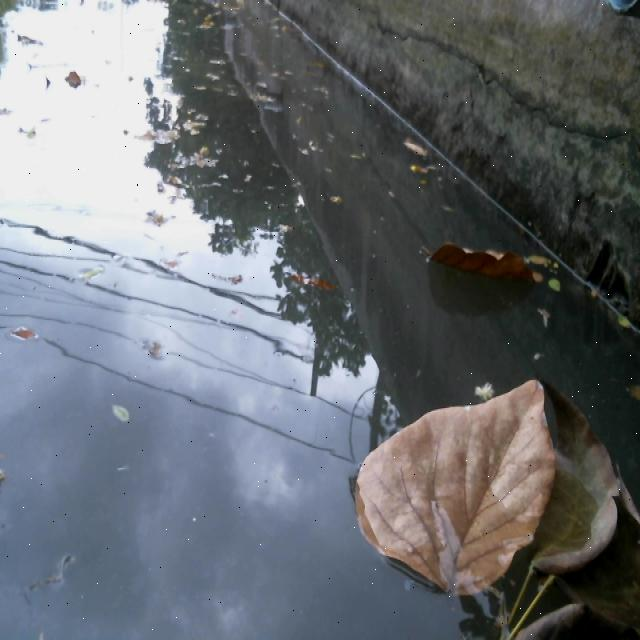Big-leaf: (349, 361, 640, 640), (424, 231, 543, 285)
Small-leaf: (395, 127, 441, 184), (544, 261, 566, 336), (284, 266, 345, 293), (0, 327, 42, 351), (609, 301, 635, 330)
